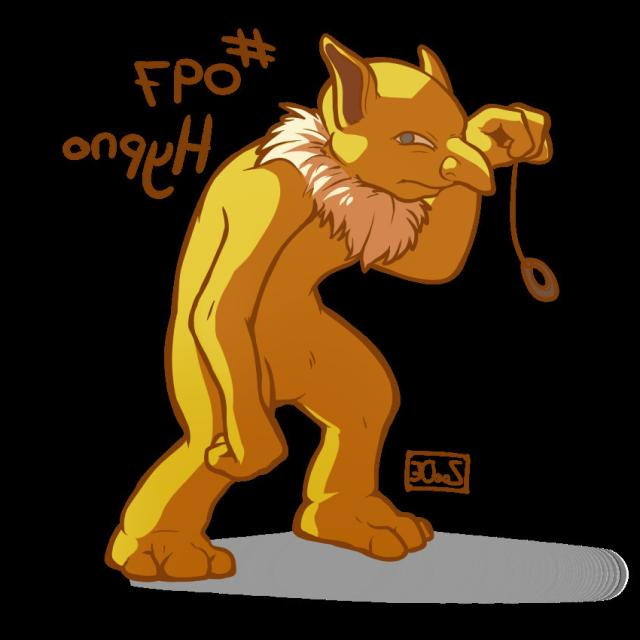Hypno: (151, 43, 570, 560)
